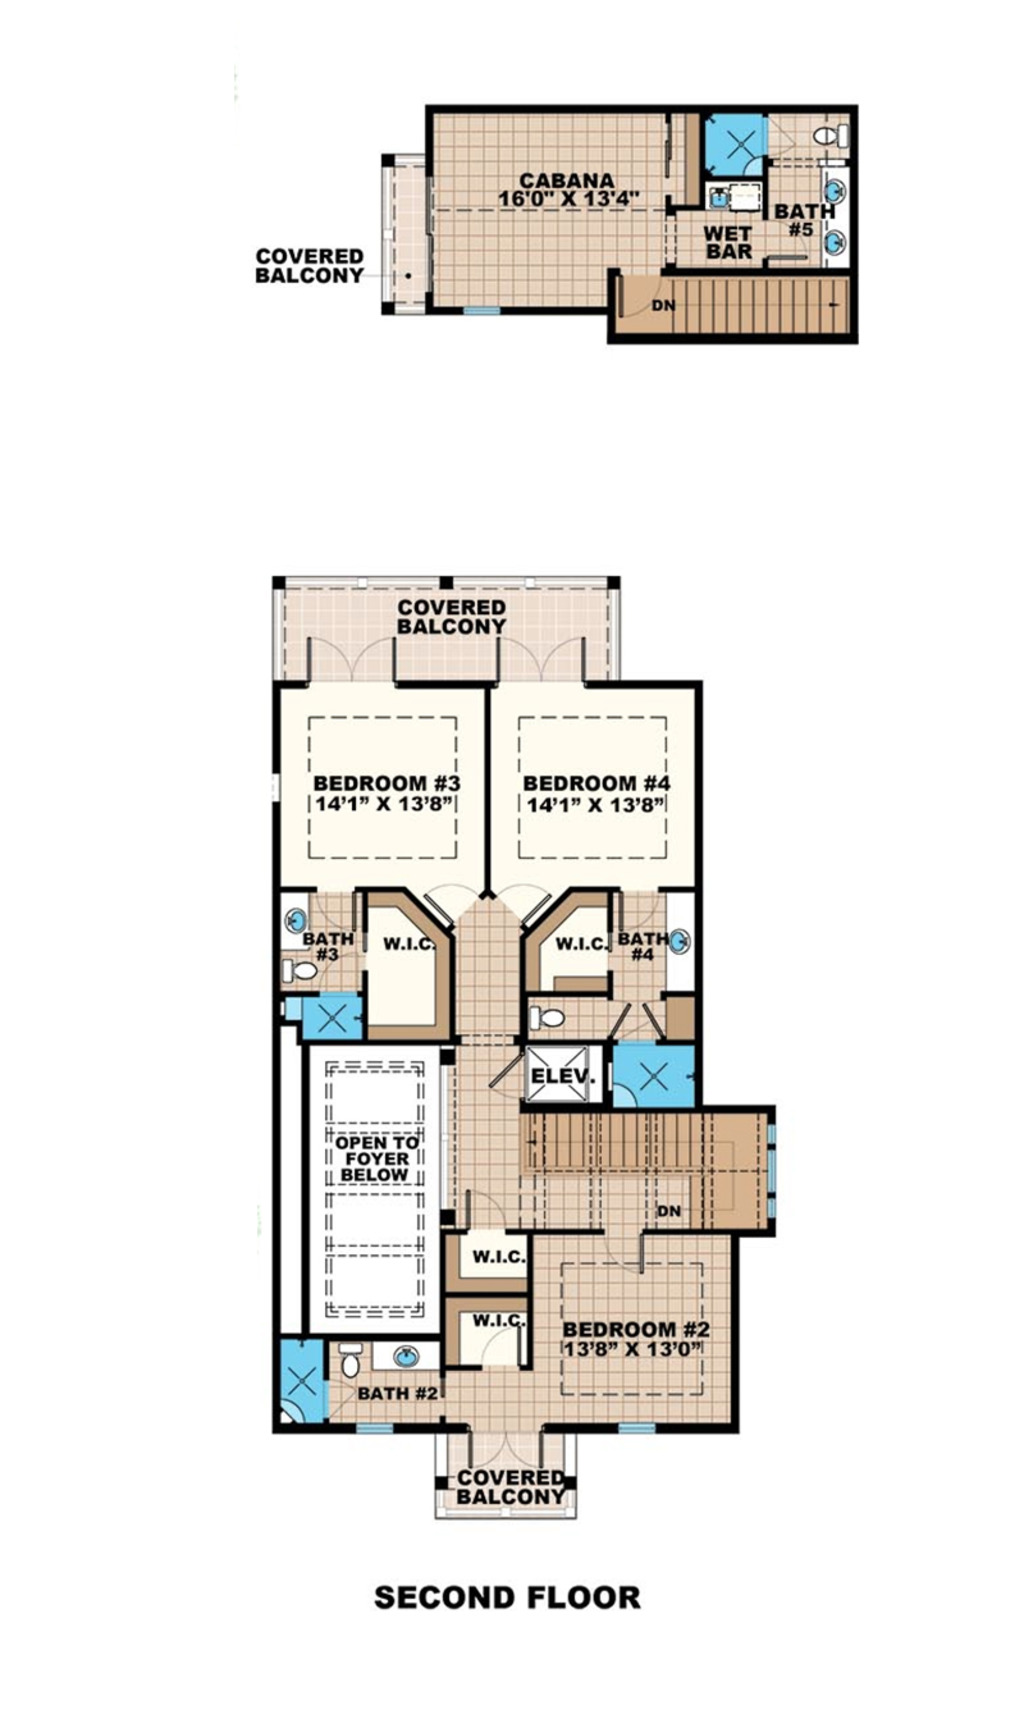door: (486, 630, 592, 689), (453, 1421, 549, 1477), (300, 639, 402, 690), (414, 873, 485, 922), (455, 1186, 510, 1241), (496, 871, 546, 927)
large_sink: (521, 999, 572, 1036)
small_sink: (660, 893, 696, 986), (269, 893, 315, 944), (372, 1338, 436, 1373)
stairs: (516, 1108, 772, 1230), (602, 266, 855, 349)
